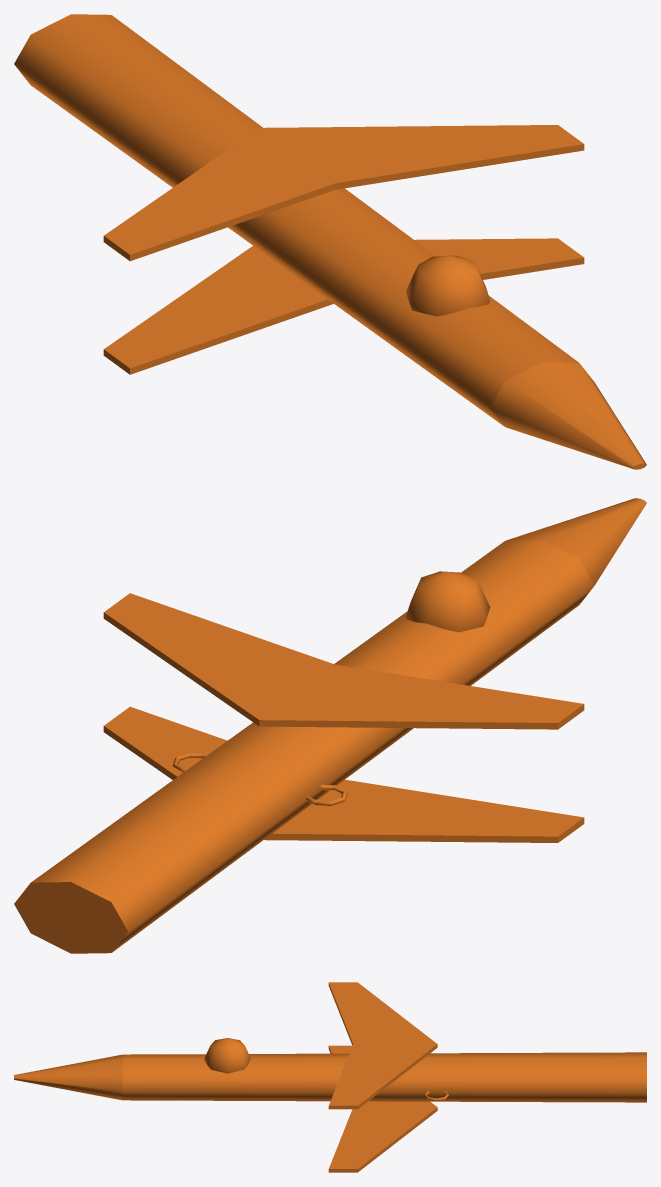
File: fighter-interceptor-1.glb
3 views of the same model, one above another, from view 1: azimuth 30°, elevation 25°; view 2: azimuth 150°, elevation 25°; view 3: azimuth 270°, elevation 25° (orthographic). The views are drawn at different scales.
Bounding box in the file's own units: 0.9158 × 0.2496 × 1.99.
